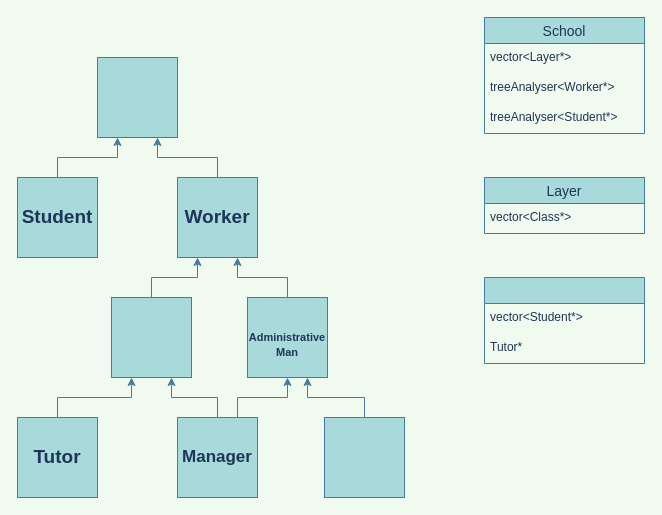
Some shapes in this 662 by 515 pixel diagram are drawn without their labels. The shapes that lost their labels are listed below. From the top down, each one's box as (x1, y1, x2, y2) in pixels, then its label:
(96, 56, 178, 138): Person
(110, 296, 192, 378): Teacher
(484, 276, 644, 364): Class
(324, 416, 404, 498): Secretary
